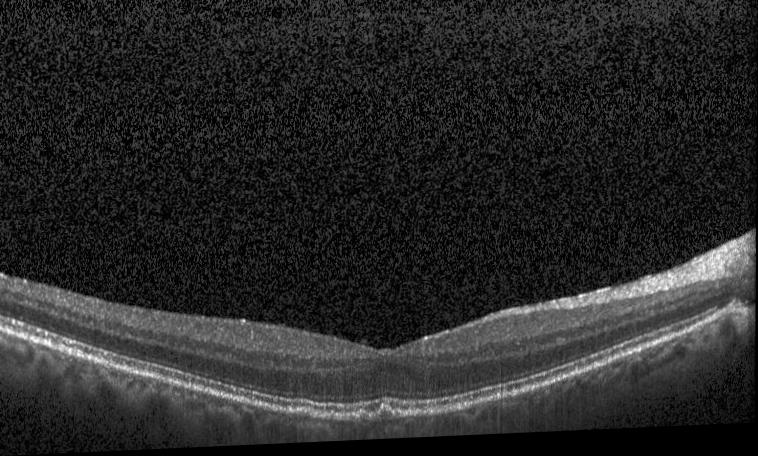retinal_drusen: (379, 410, 395, 424), (358, 415, 371, 425), (298, 411, 311, 420), (395, 414, 400, 420)
